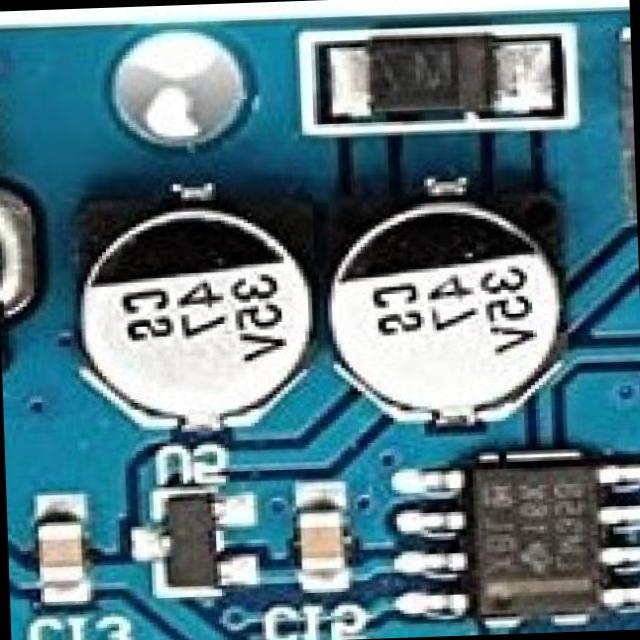IC: (423, 449, 640, 624)
capacitor: (70, 185, 322, 465), (324, 180, 588, 430), (31, 508, 101, 617), (294, 498, 353, 585)
diode: (340, 26, 530, 127)
transistor: (152, 483, 245, 593)
